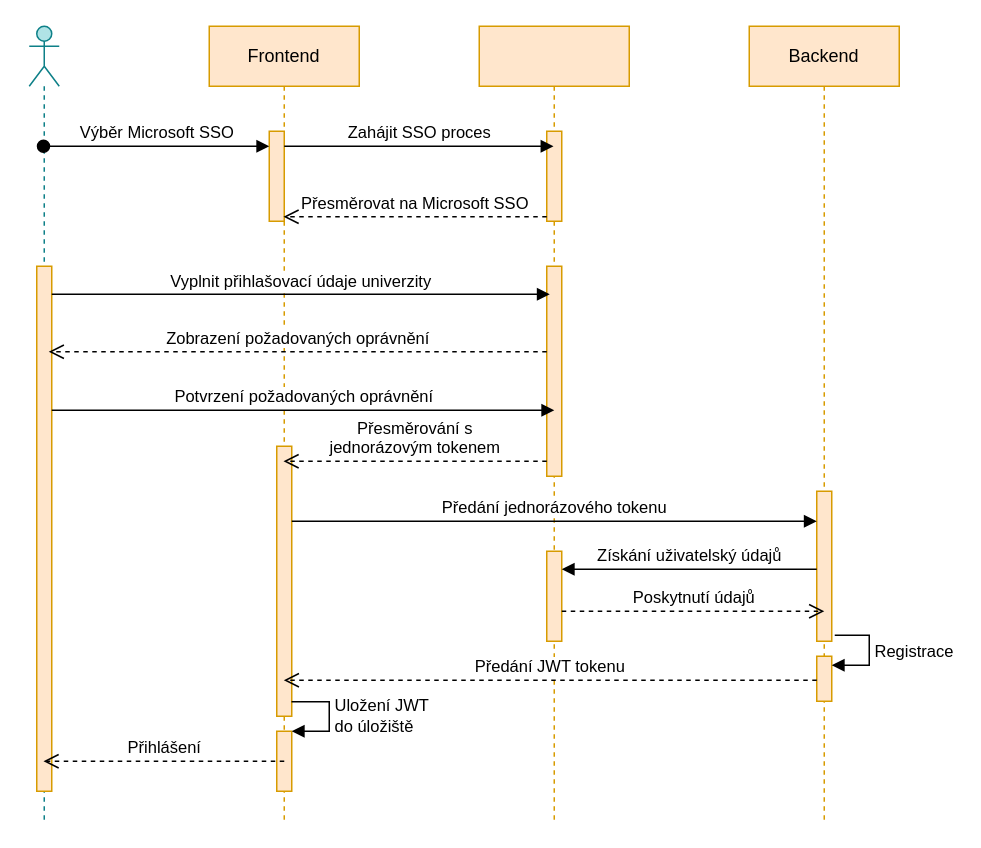
Some shapes in this 981 by 848 pixel diagram are drawn without their labels. Each missing label, with the box of its shape:
Microsoft SSO: (478, 25, 629, 821)
User: (28, 25, 59, 821)
